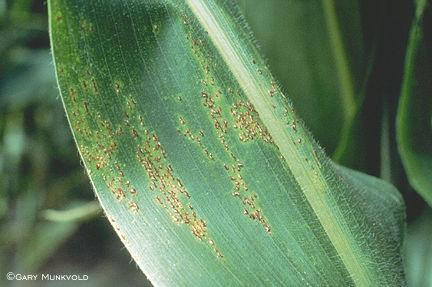Corn_Common_Rust: (51, 11, 140, 249), (203, 89, 286, 161), (172, 167, 220, 262), (223, 162, 272, 240), (141, 121, 172, 212), (182, 14, 219, 89), (286, 108, 320, 173), (176, 91, 203, 145), (250, 53, 284, 89), (149, 19, 162, 35)
